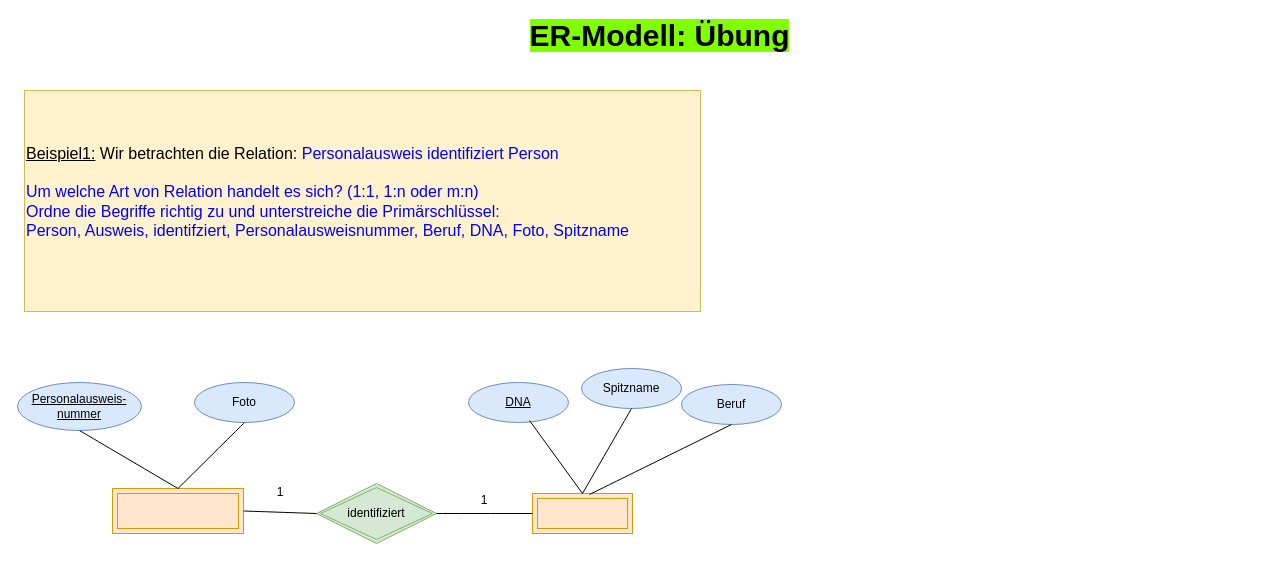
Image size: 1285x561. Some labels were removed from this diagram. The centre of each missing label's shape, as x and y in pixels:
Person: point (582, 513)
Personalausweis: point (178, 511)
